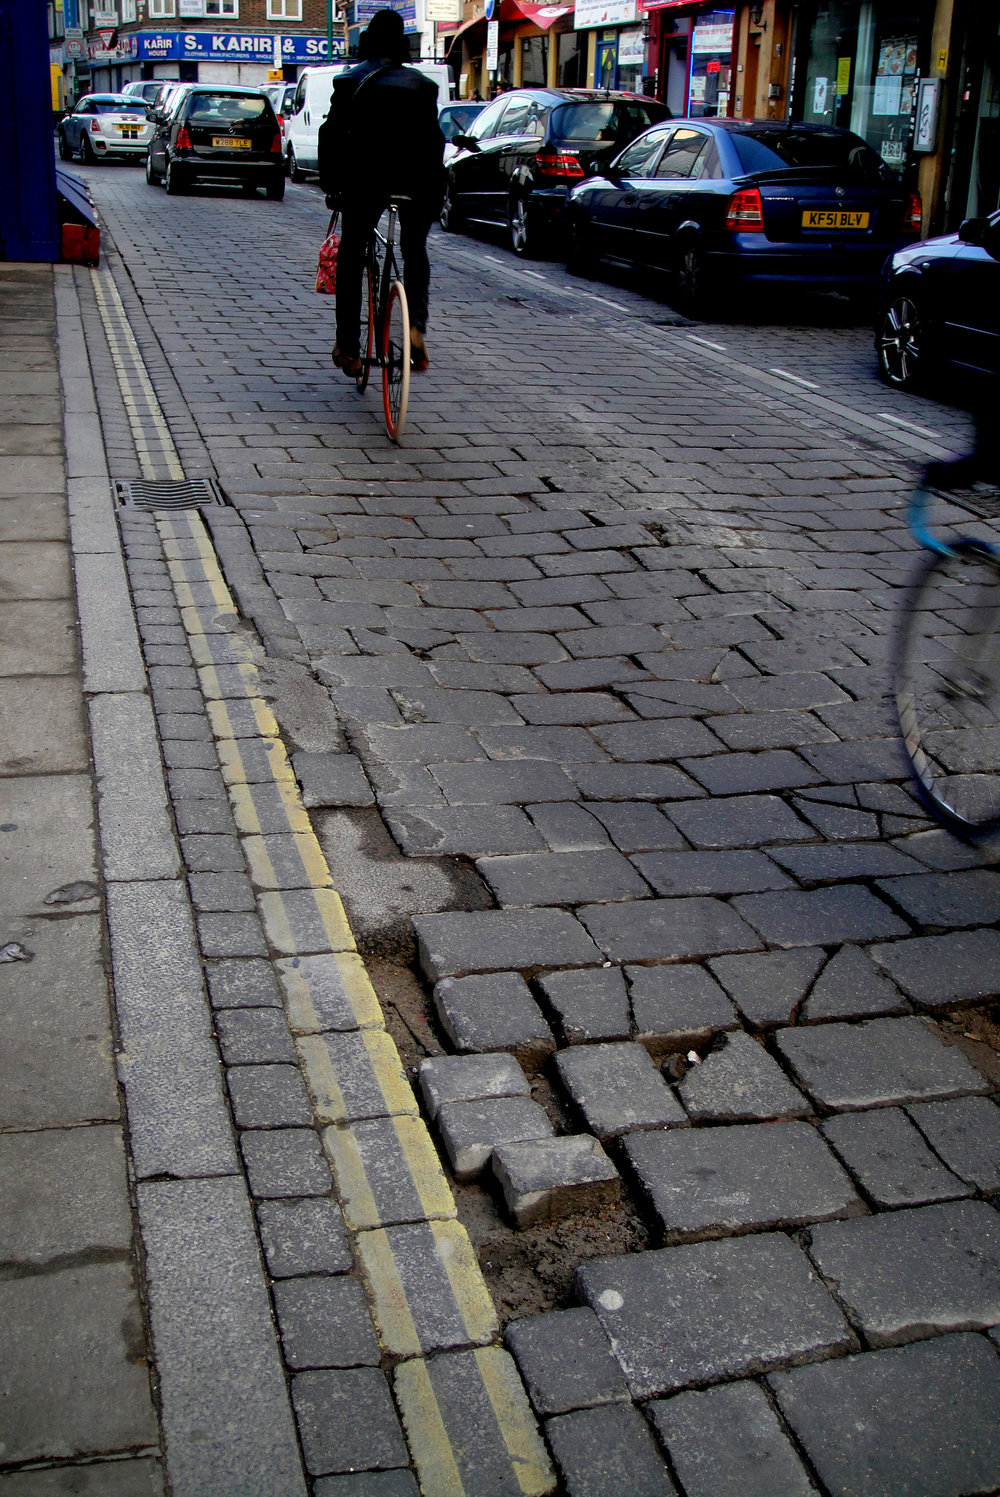pothole: (329, 888, 677, 1272)
